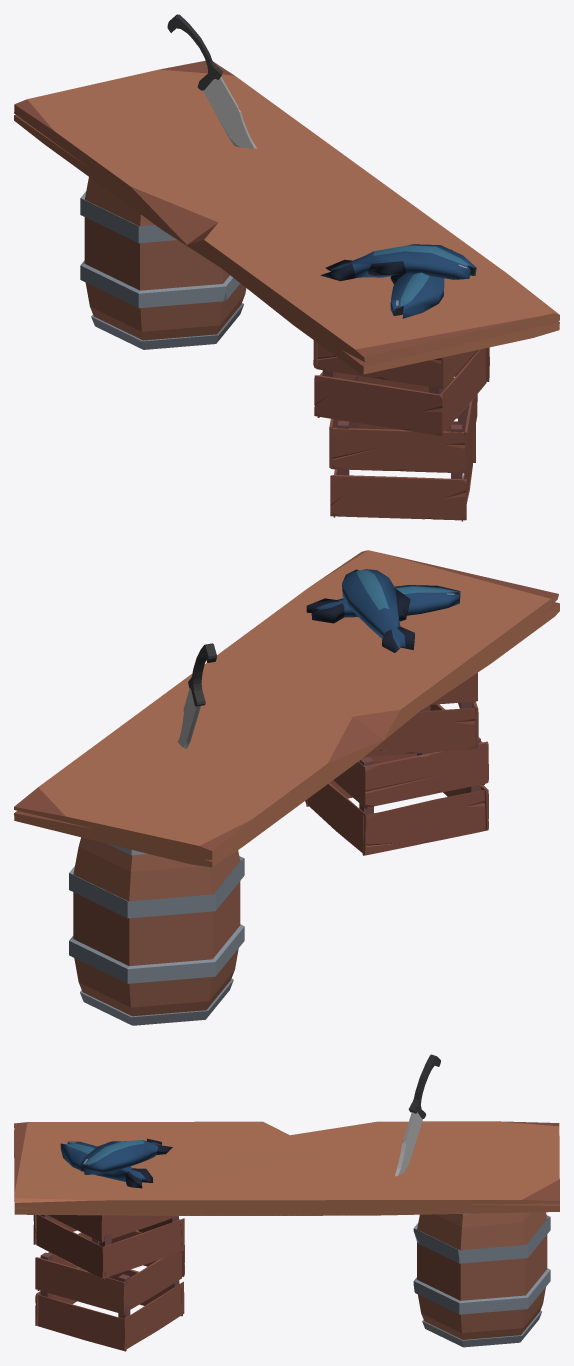
File: Table.fbx
3 views of the same model, one above another, from view 1: azimuth 30°, elevation 25°; view 2: azimuth 150°, elevation 25°; view 3: azimuth 270°, elevation 25° (orthographic). The views are drawn at different scales.
Parts seen in each view (by area): view 1: Cube.003, Cube.004, Cube.056, Cube.005, Cube.002, Cube.001; view 2: Cube.003, Cube.004, Cube.056, Cube.002, Cube.005, Cube.001; view 3: Cube.003, Cube.004, Cube.056, Cube.005, Cube.002, Cube.001.
Boxes of the visible parts, bbox=[...] form: Cube.003: bbox=[14, 60, 559, 374]; Cube.004: bbox=[80, 177, 246, 349]; Cube.056: bbox=[329, 375, 477, 521]; Cube.005: bbox=[313, 340, 489, 436]; Cube.002: bbox=[320, 244, 476, 318]; Cube.001: bbox=[167, 14, 256, 148]; Cube.003: bbox=[14, 550, 559, 867]; Cube.004: bbox=[69, 837, 244, 1025]; Cube.056: bbox=[305, 704, 488, 855]; Cube.002: bbox=[306, 569, 460, 652]; Cube.005: bbox=[364, 672, 478, 757]; Cube.001: bbox=[177, 643, 216, 748]; Cube.003: bbox=[14, 1121, 559, 1215]; Cube.004: bbox=[413, 1212, 550, 1347]; Cube.056: bbox=[35, 1230, 184, 1351]; Cube.005: bbox=[33, 1215, 184, 1279]; Cube.002: bbox=[60, 1138, 172, 1188]; Cube.001: bbox=[394, 1054, 440, 1176].
Size of the model in its own units: 97.44 by 155 by 295.
